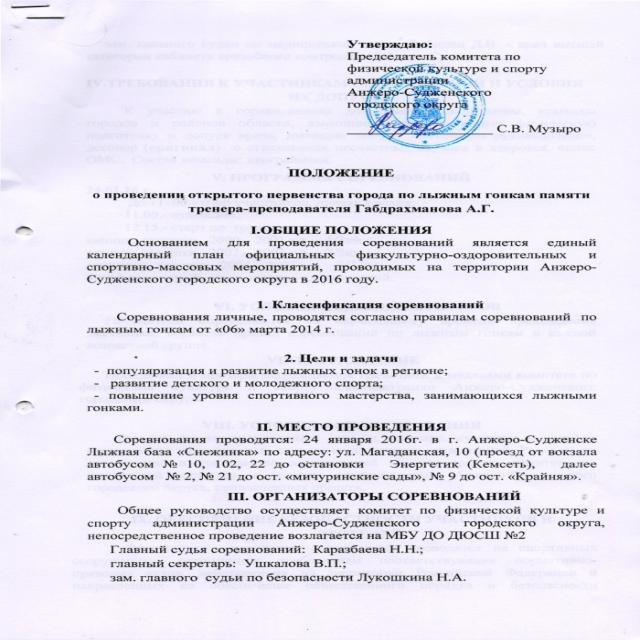objects: (335, 61, 523, 155)
